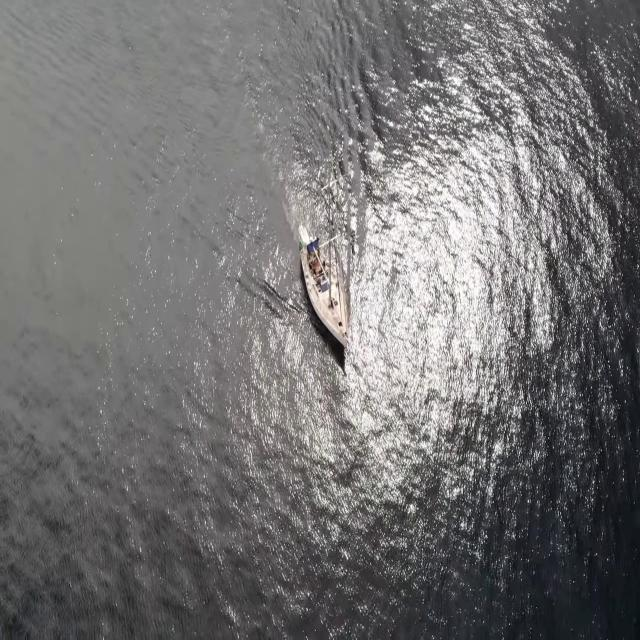sailboat: (300, 216, 352, 352)
